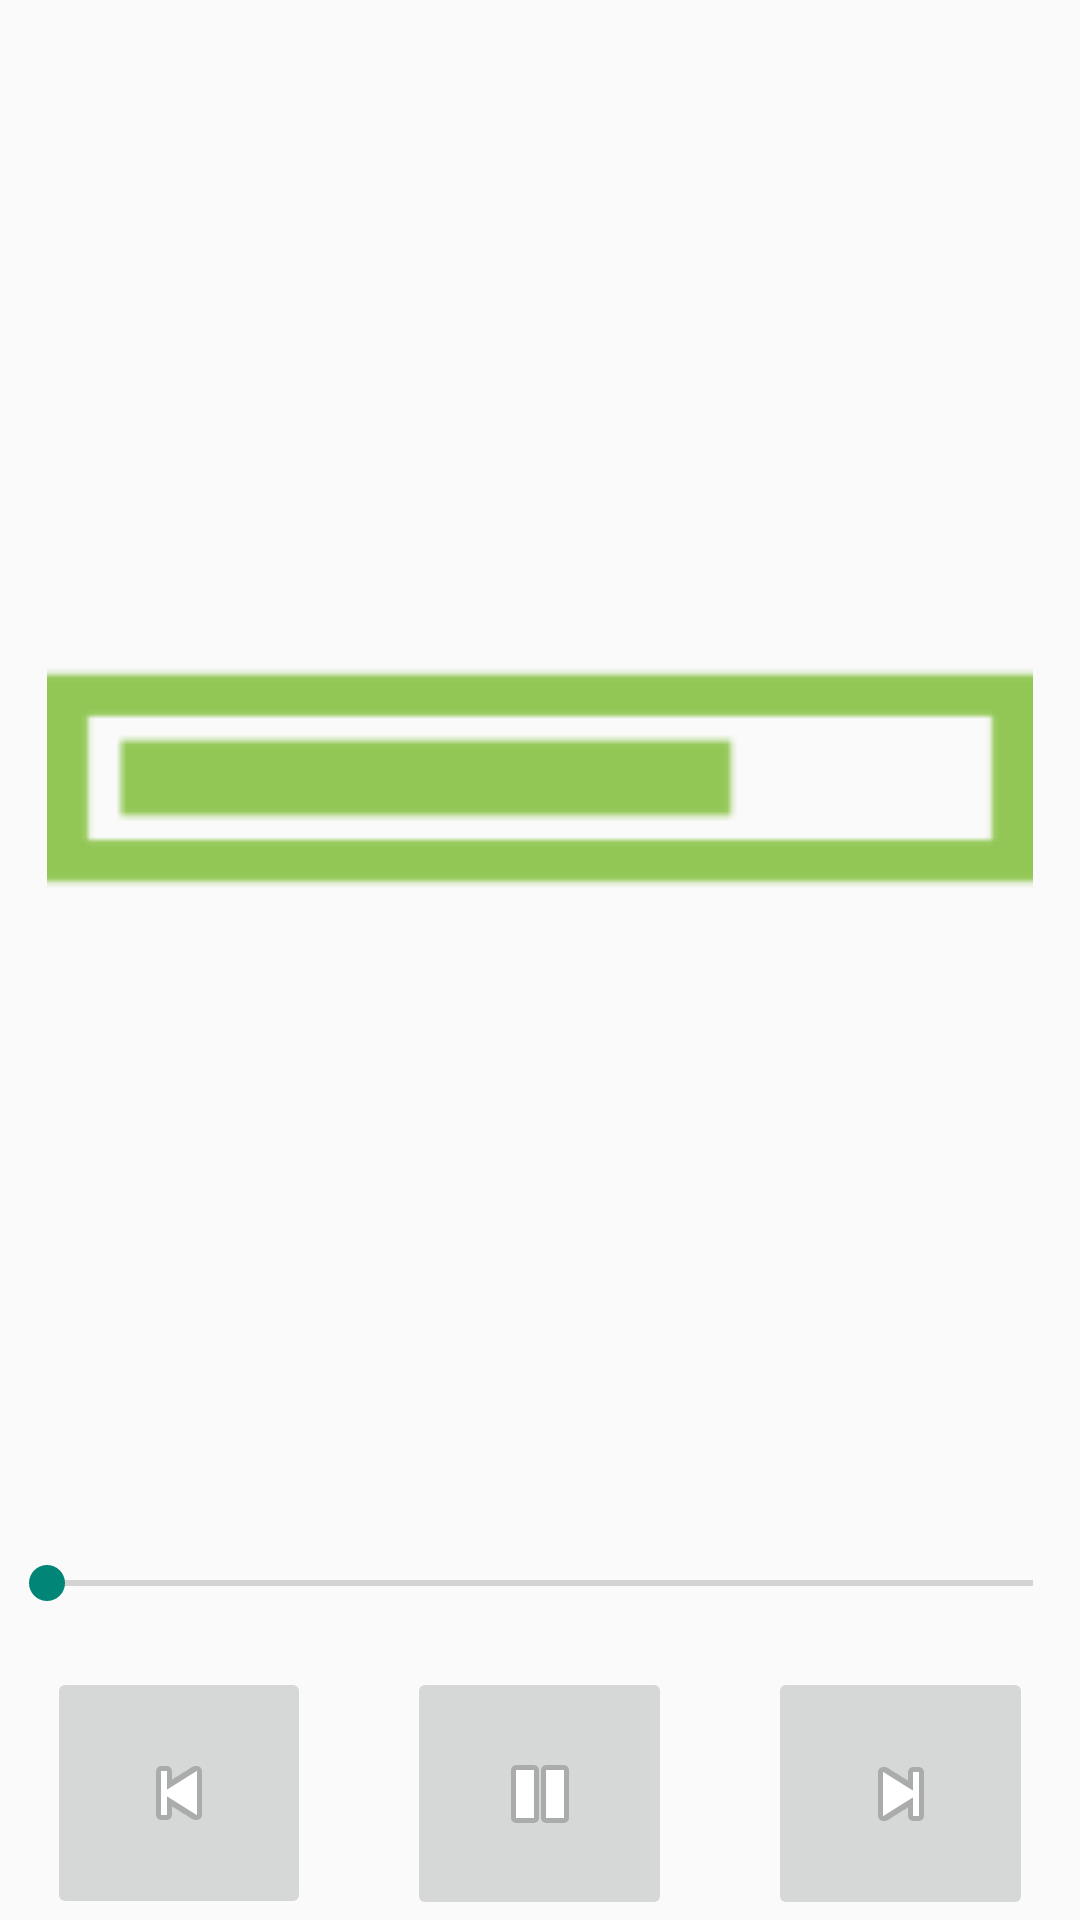

Named icons in this screenshot (1080px x 1920px) and their bounding boxes, (x1, y1, x2, y2):
next: (780, 1685, 1021, 1902)
play/pause: (419, 1685, 660, 1902)
Previous: (59, 1685, 299, 1901)
